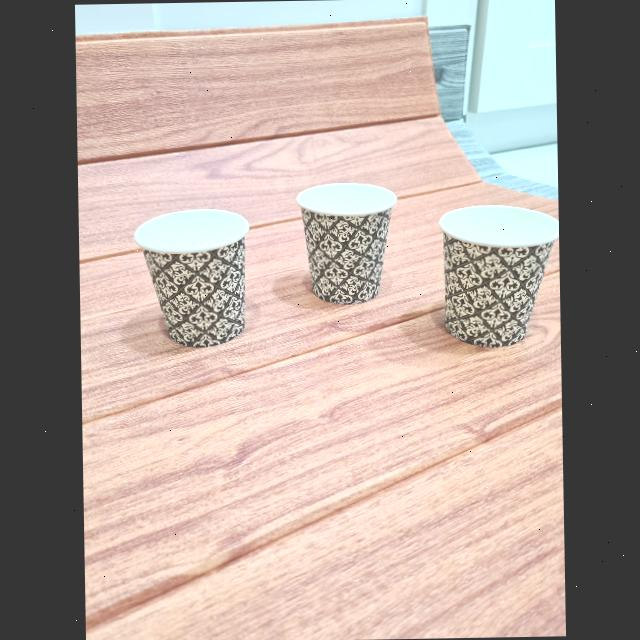trash: (434, 205, 560, 352), (133, 208, 254, 348), (292, 182, 400, 310)
